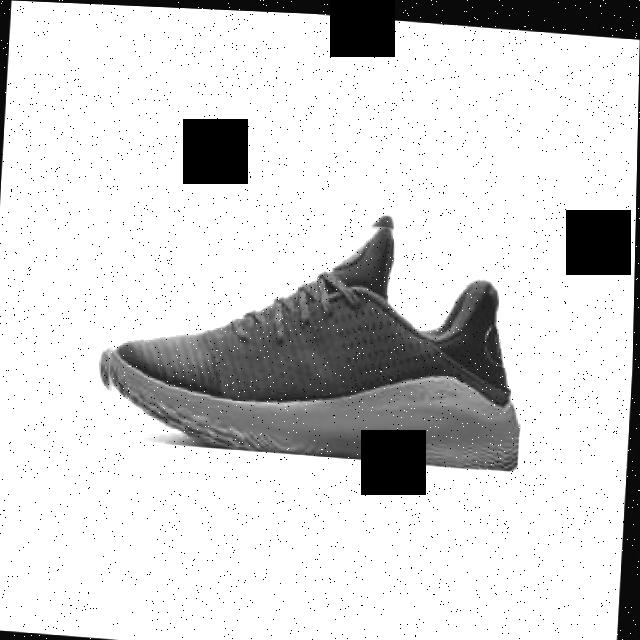shoe: (97, 191, 532, 467)
